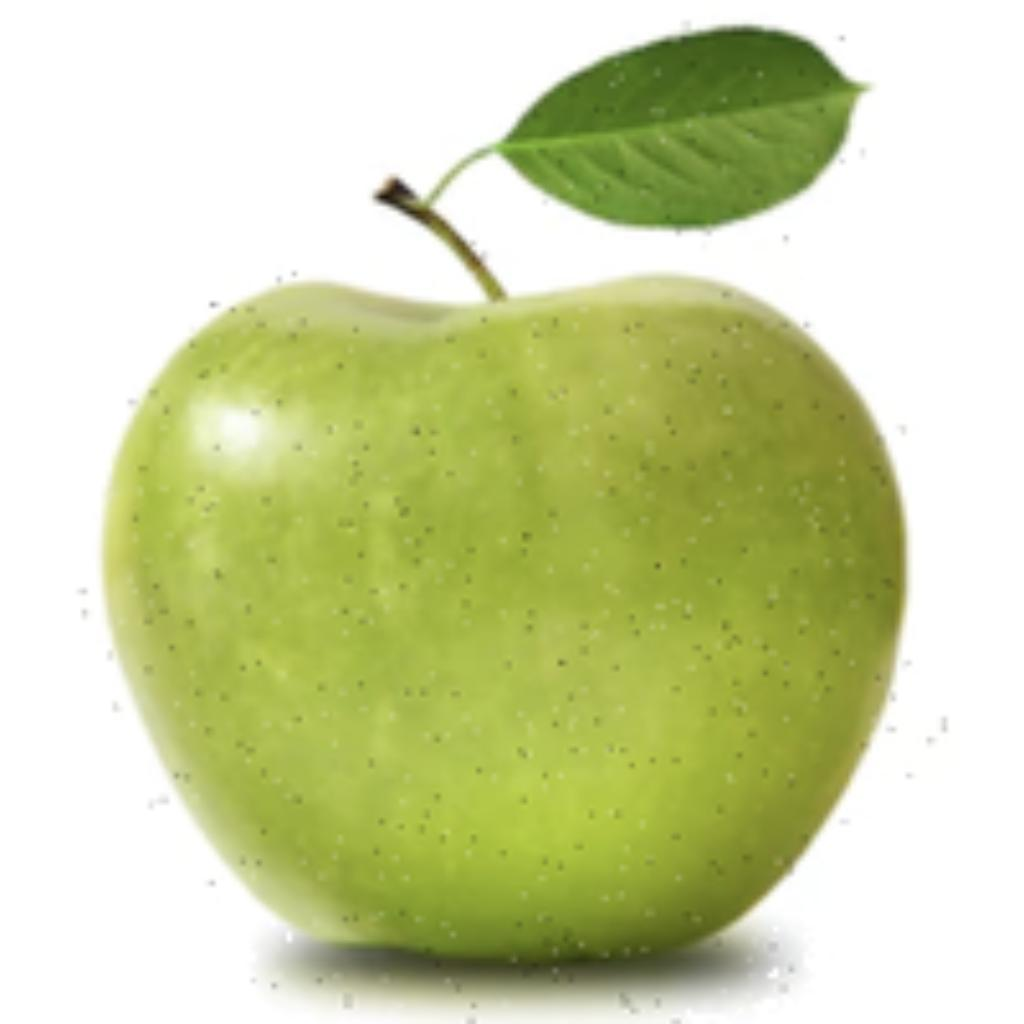apple: (87, 15, 911, 1019)
